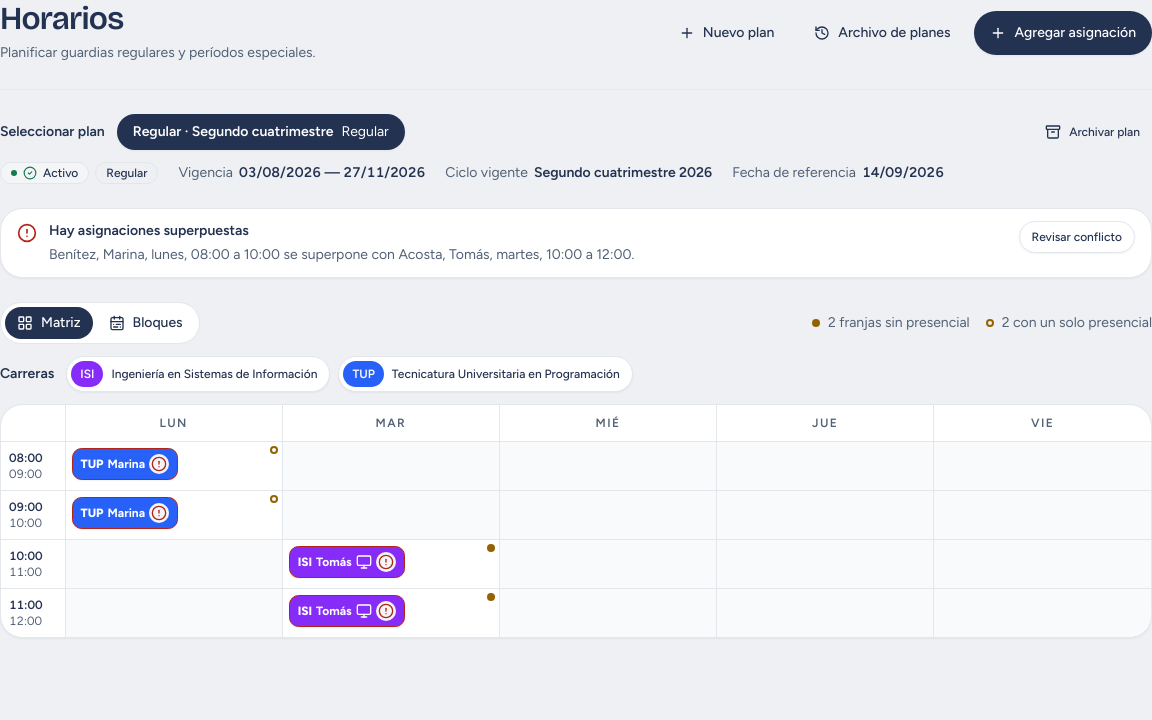
Test: SchedulesScreen › names conflicting assignments and opens the first one for review
Expected: the message shows "Hay asignaciones superpuestas", [49, 222, 249, 239]
Expected: the message shows "Benítez, Marina, lunes, 08:00 a 10:00 se superpone con Acosta, Tomás, martes, 10:00 a 12:00.", [49, 246, 634, 263]
Click the button "Revisar conflicto" at (1077, 237), box [1019, 221, 1135, 253]
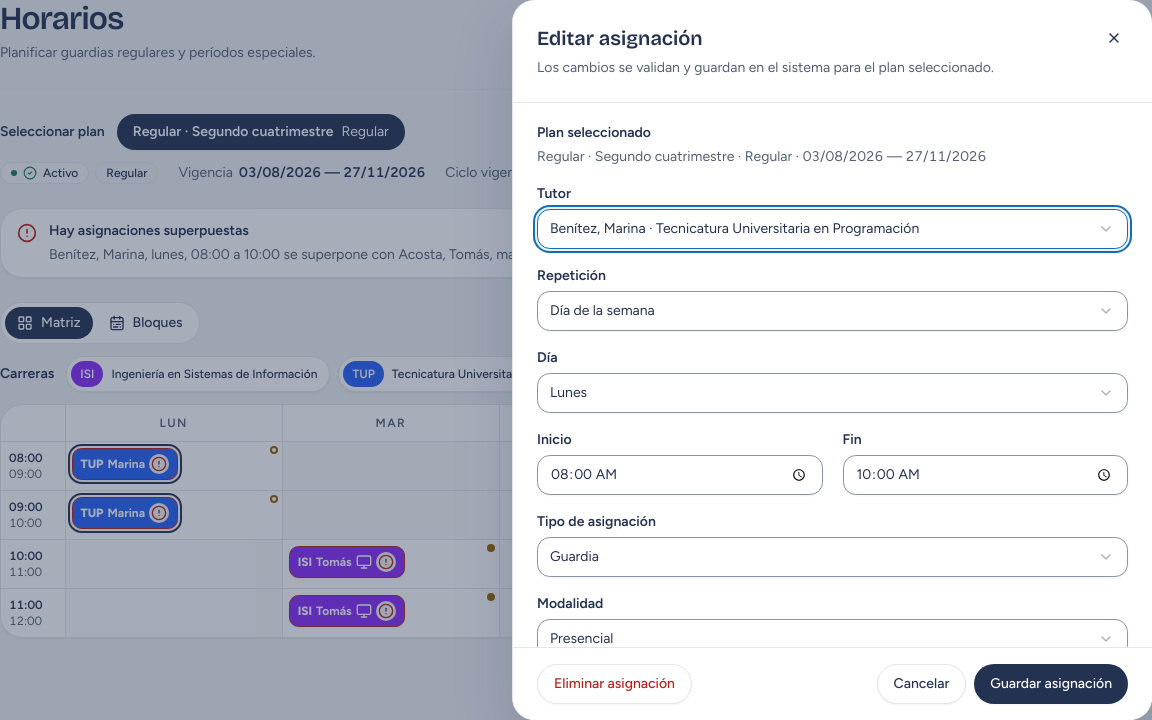
Now the dialog "Editar asignación" is shown, box [512, 0, 1151, 719]
